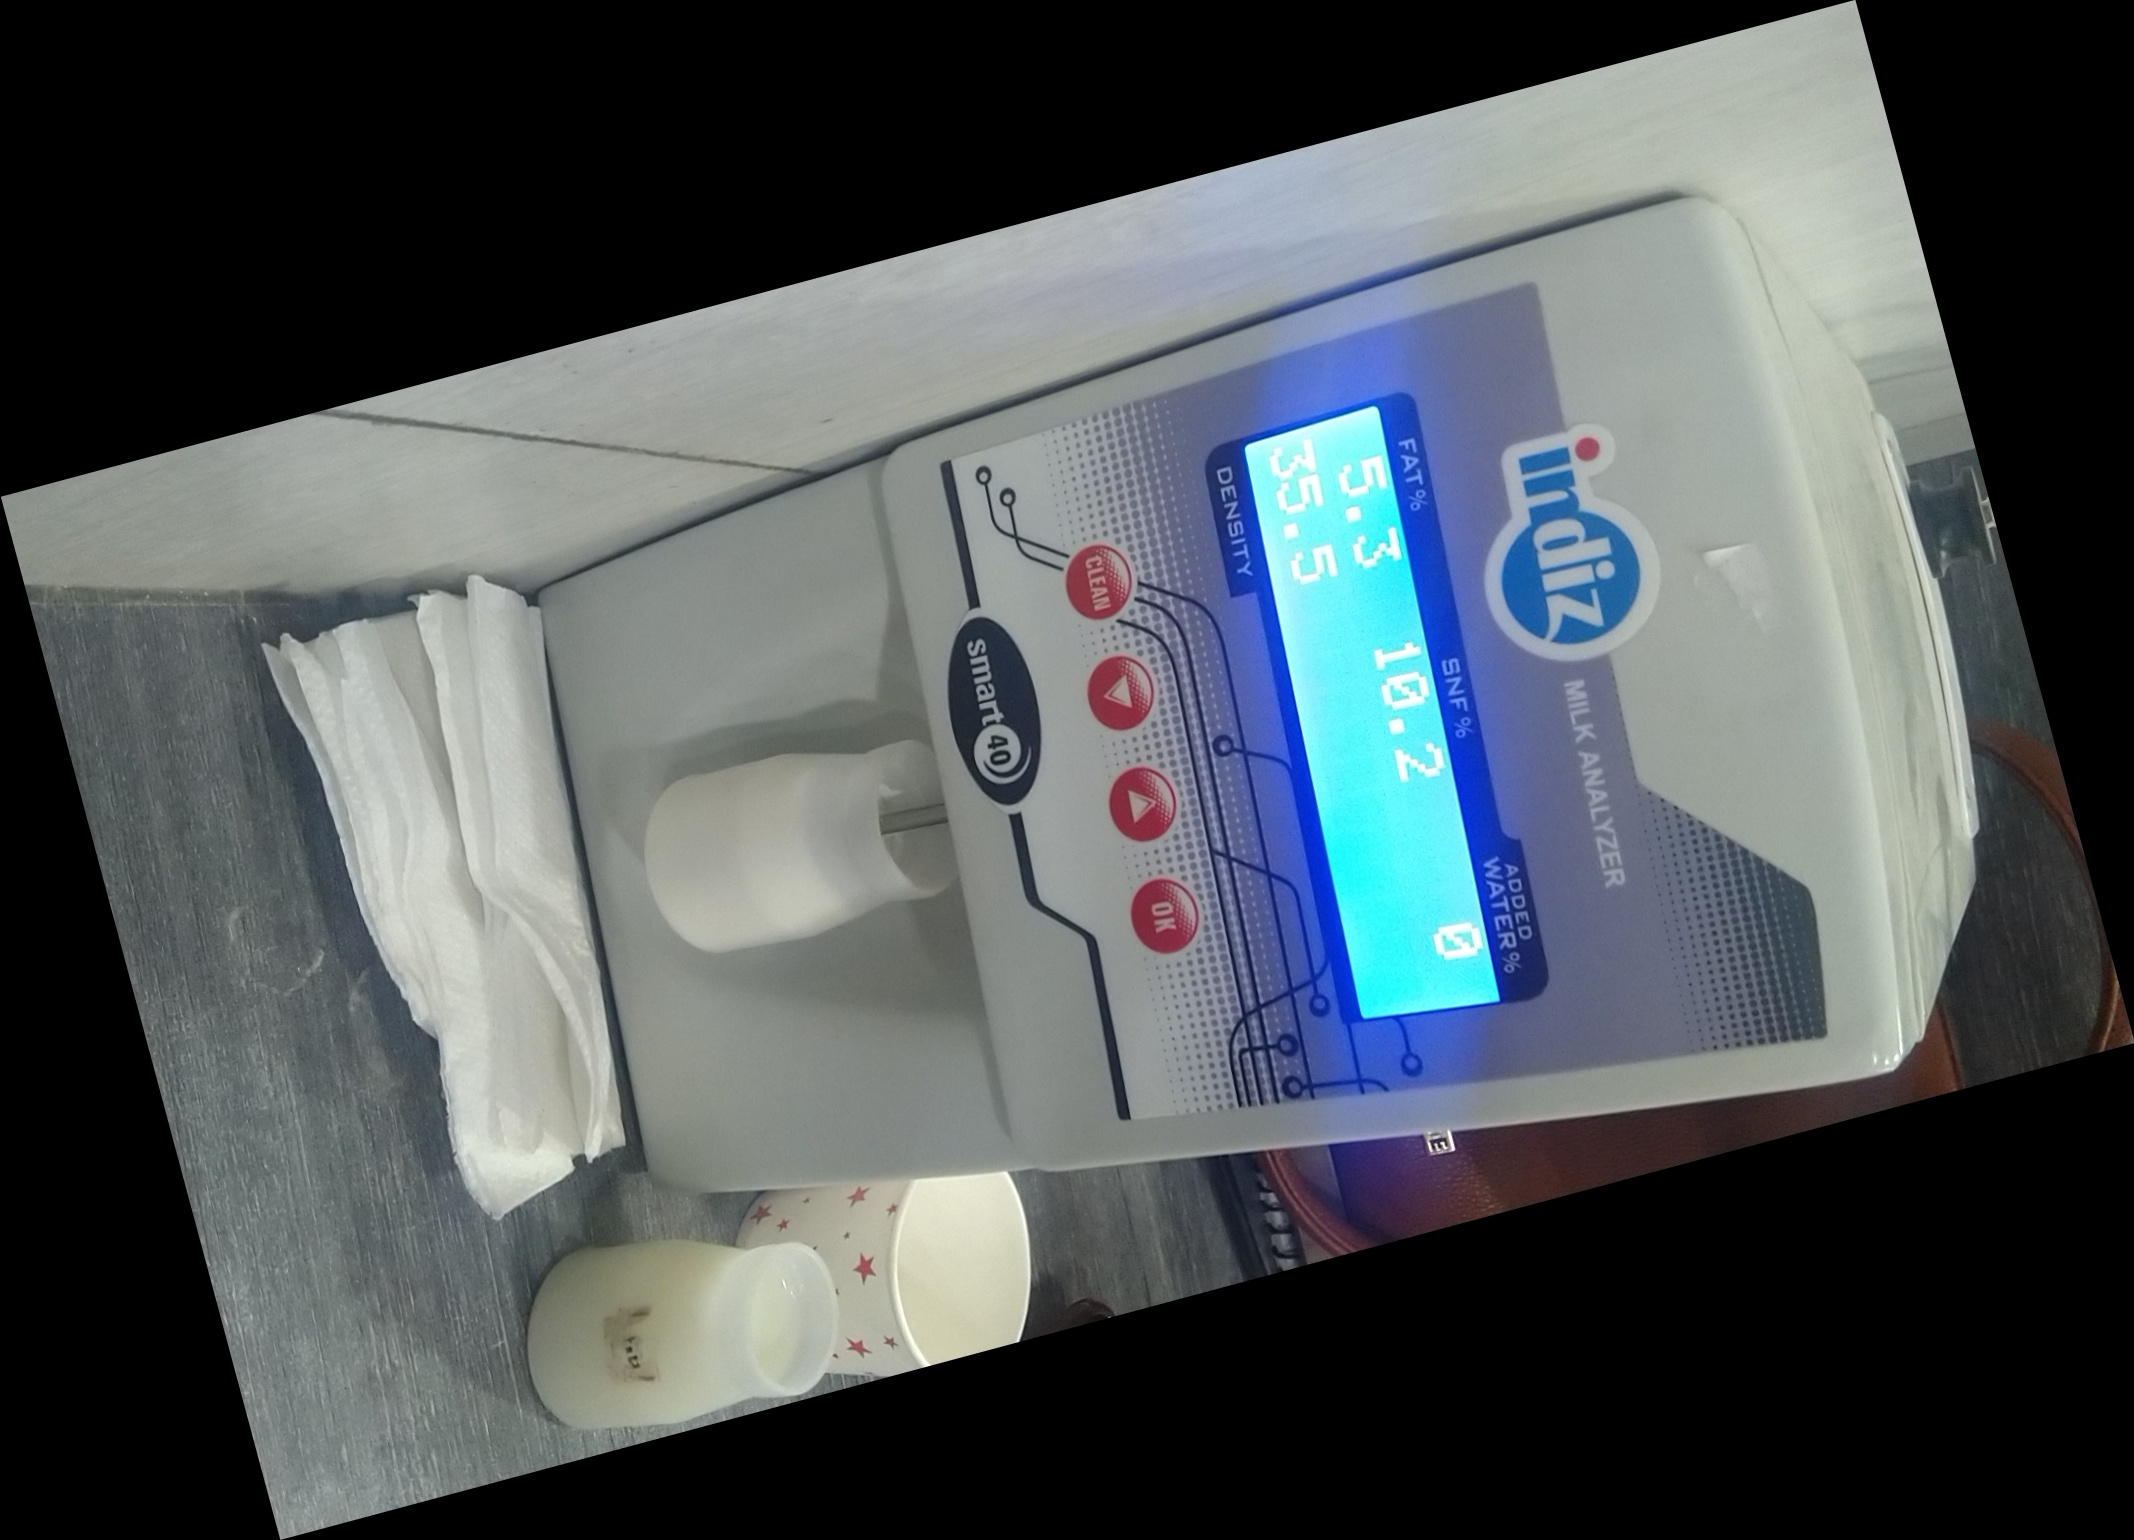lcd: (1190, 371, 1554, 1024)
